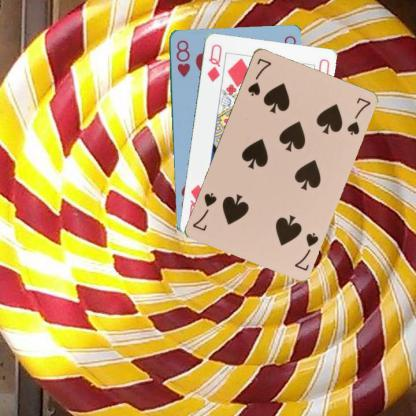7s: (291, 230, 320, 272), (244, 56, 273, 97)
8h: (173, 38, 191, 78)
Qd: (205, 41, 223, 83)
